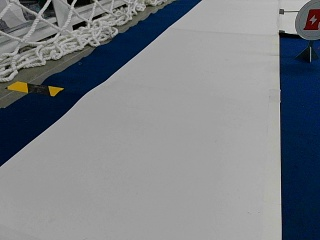battery: (295, 0, 320, 39)
